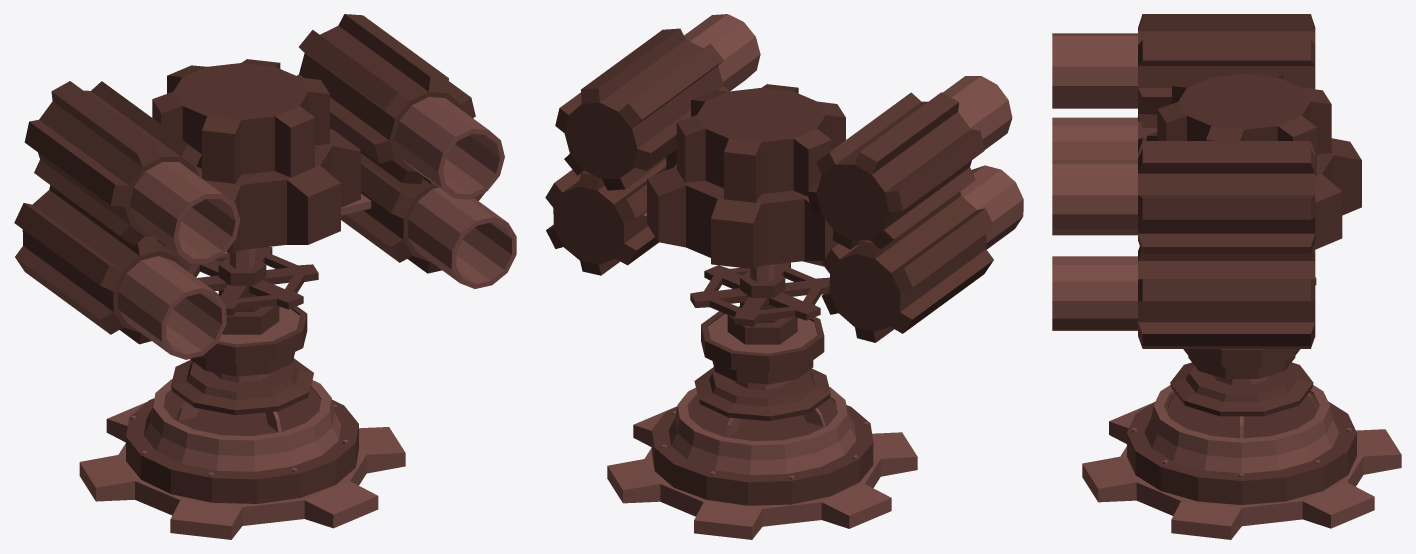
The model's file is gearcannon-2-dd31ed504b.glb.
The picture shows the model from 3 angles, left to right: view 1: azimuth 30°, elevation 25°; view 2: azimuth 150°, elevation 25°; view 3: azimuth 270°, elevation 25°; orthographic projection. The views are drawn at different scales.
Visible parts, largest first — view 1: GearCannon_2.obj; view 2: GearCannon_2.obj; view 3: GearCannon_2.obj.
Part boxes in pixels (x1=…): GearCannon_2.obj: x1=14, y1=14, x2=516, y2=539; GearCannon_2.obj: x1=545, y1=14, x2=1023, y2=539; GearCannon_2.obj: x1=1052, y1=14, x2=1401, y2=539.
Size of the model in its own units: 1.88 by 1.87 by 1.5.
